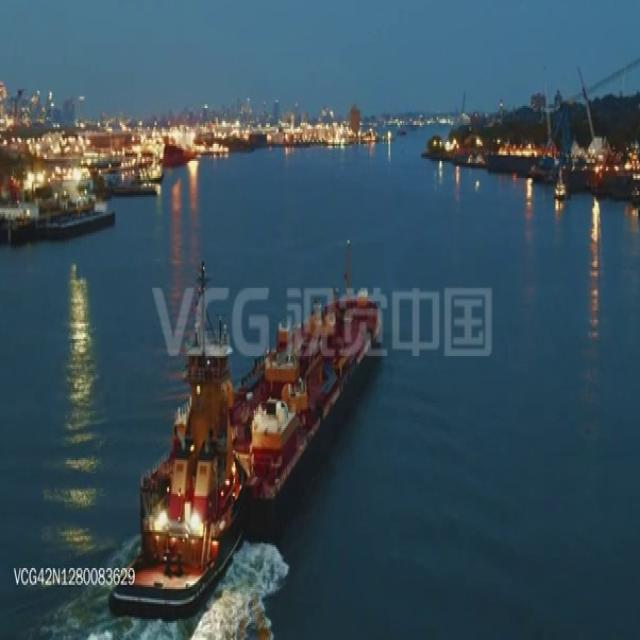cargoship: (116, 283, 382, 609)
